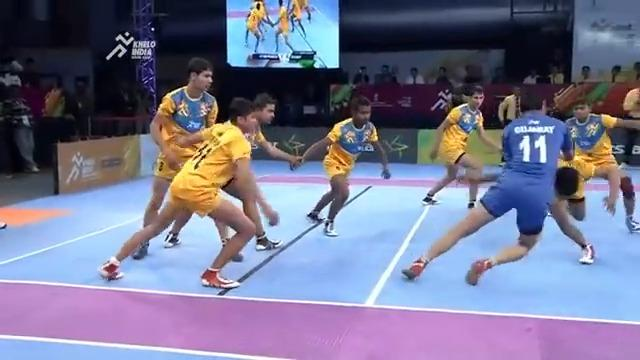Player: (99, 91, 301, 289), (132, 56, 244, 262), (547, 87, 639, 264), (290, 93, 391, 236), (420, 82, 503, 209)
Raider: (400, 92, 576, 287)
